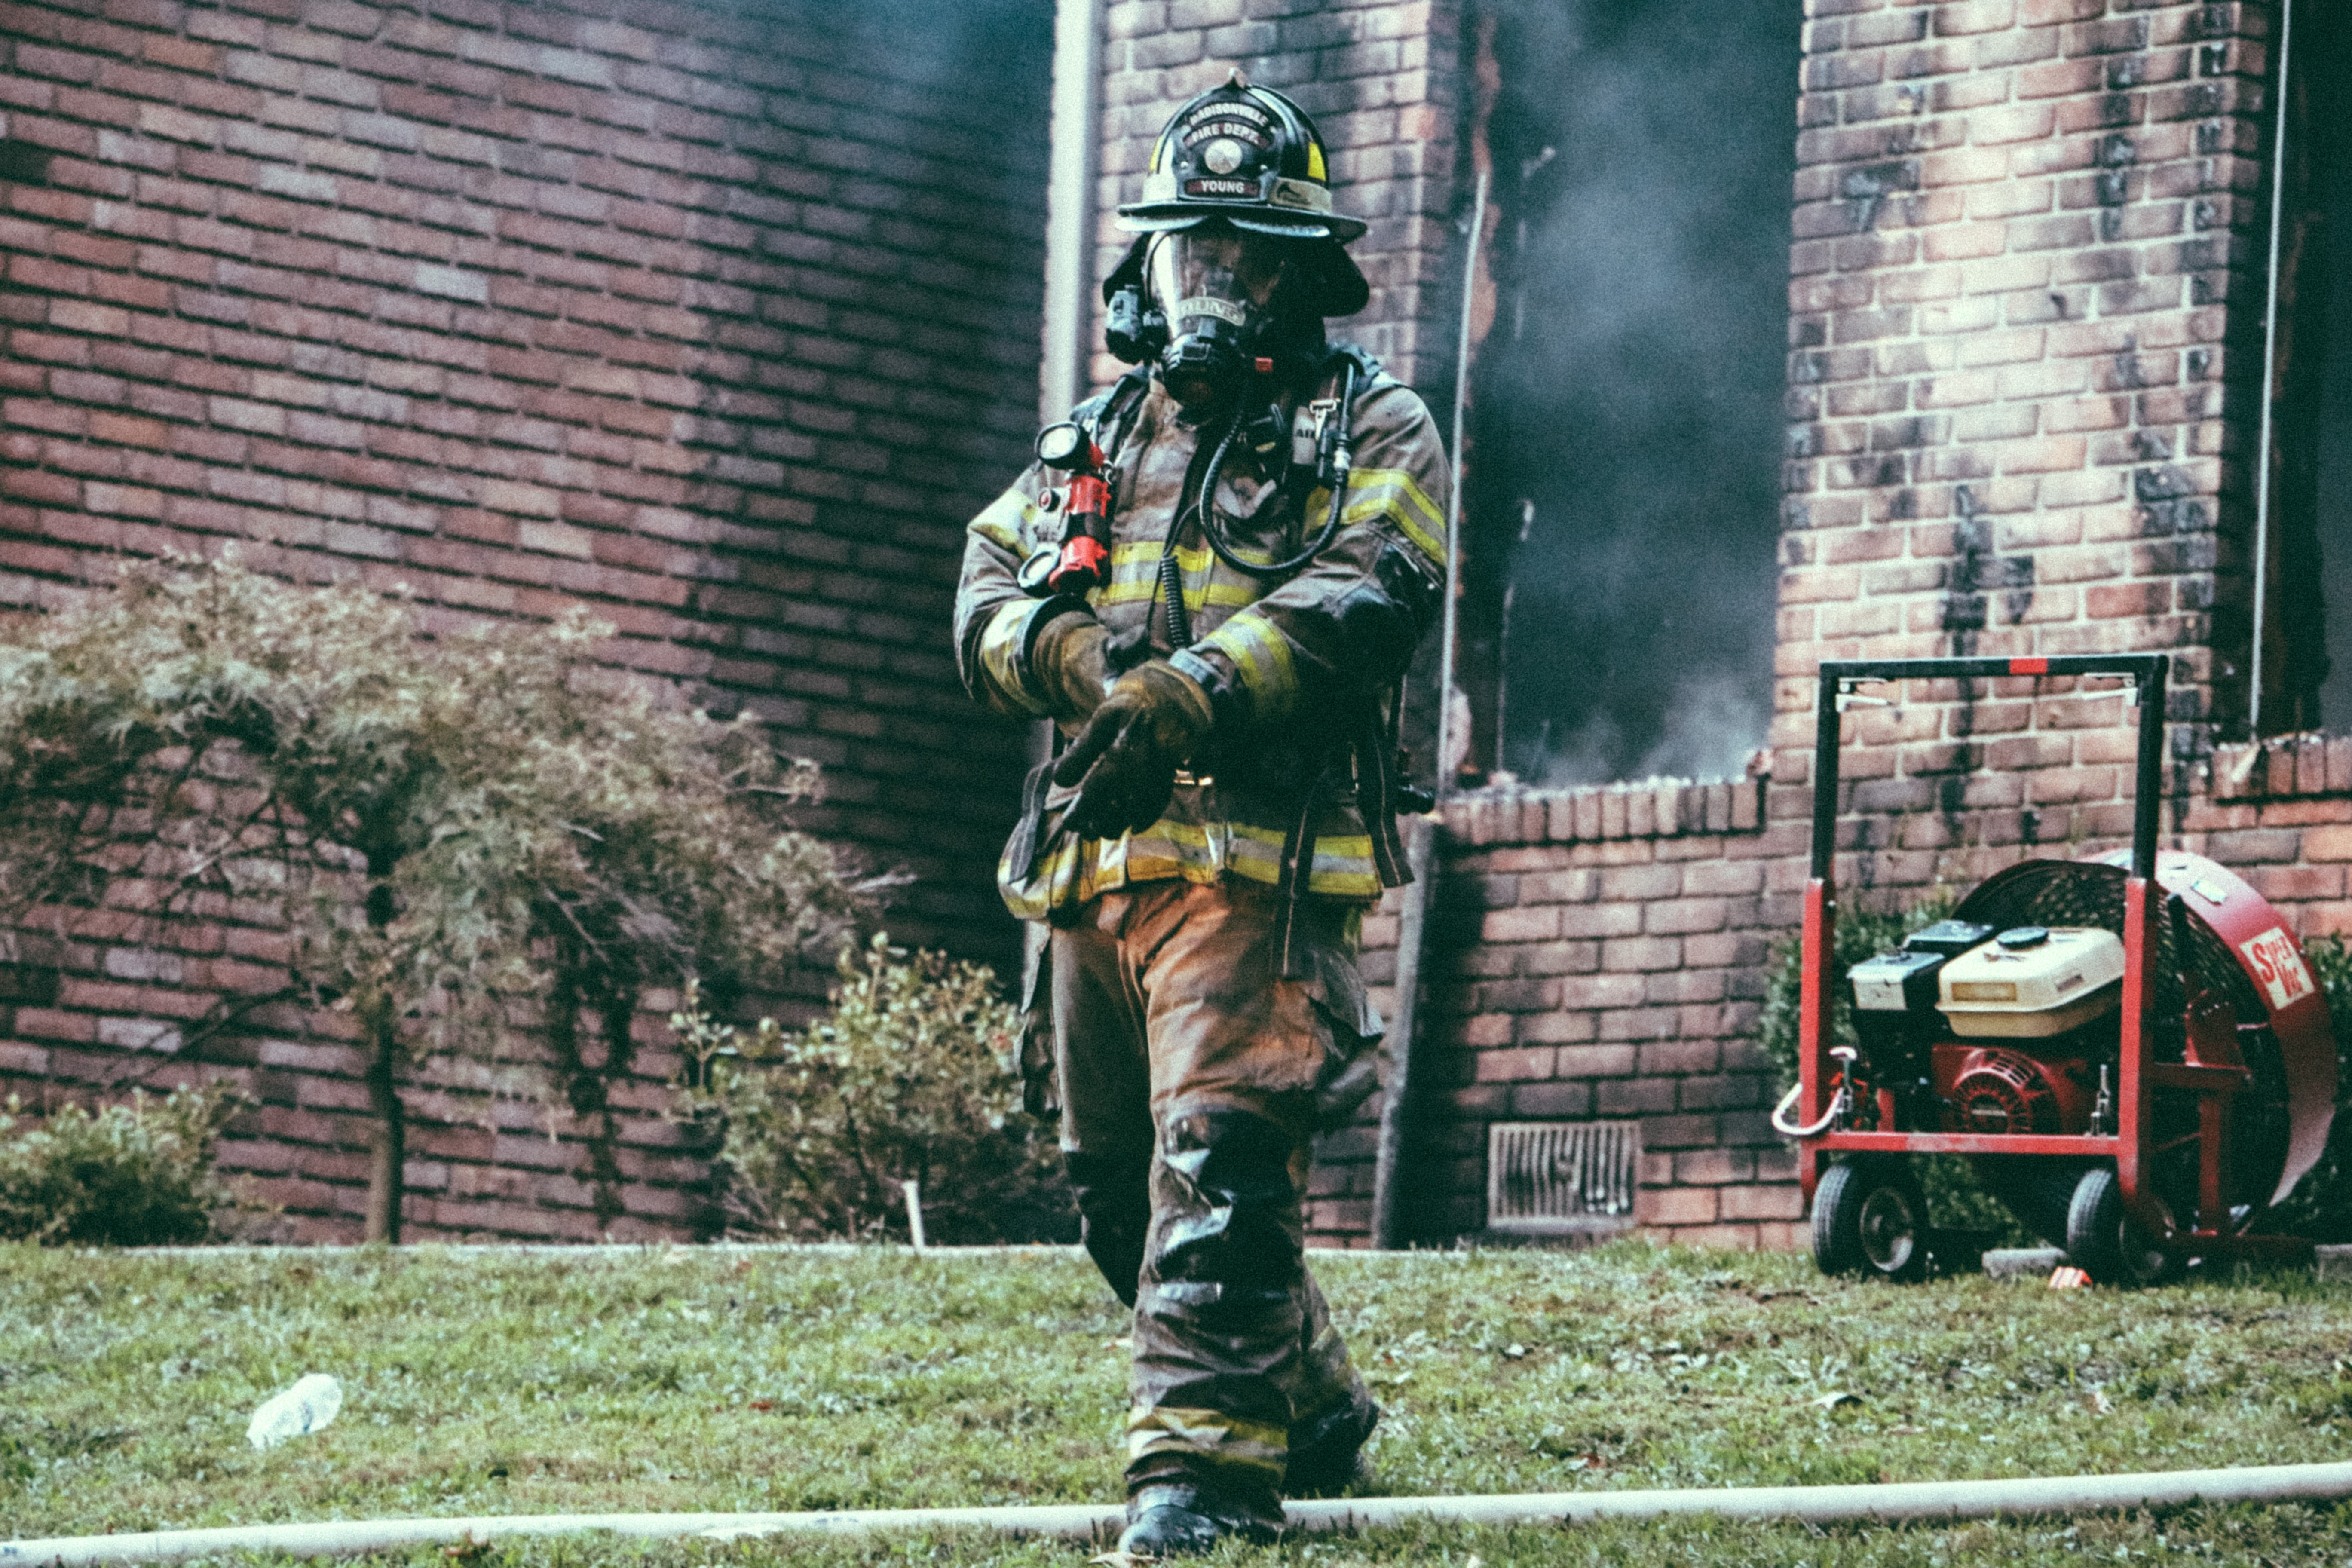emergent: (948, 59, 1456, 1559)
